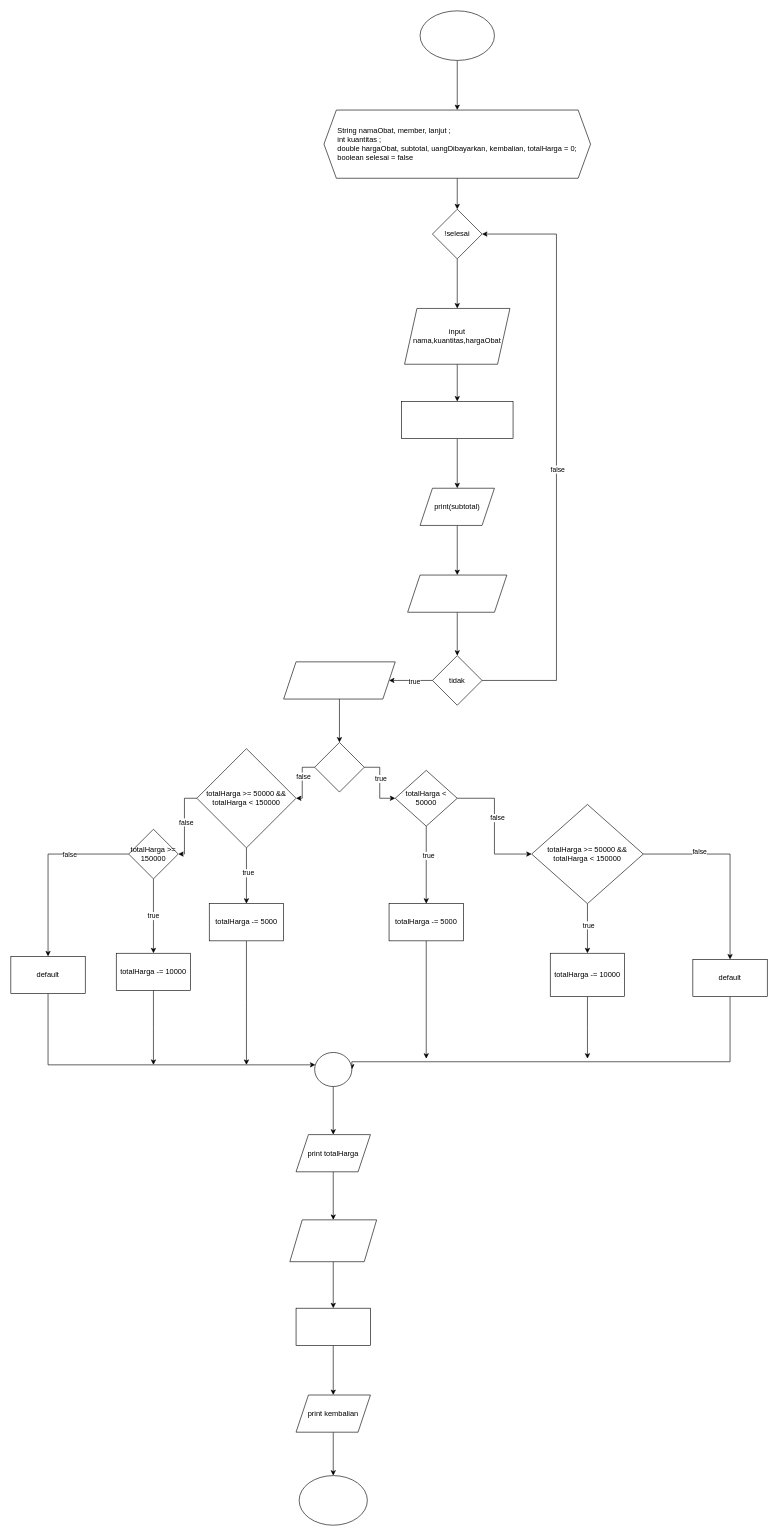
This 778x1536 diagram has some shape labels left out. The shapes that lost their labels are listed below. From the top down, each one's centre as x and y in pixels, then its label:
the point at 456,35: start
the point at 457,420: subtotal = kuantitas * hargaObat += subtotal
the point at 457,593: input(apakah ingin memasukkan data lagi?(ya/tidak)
the point at 339,680: input(apakah mempunyai member?(ya/tidak)
the point at 339,767: ya
the point at 333,1240: input (uang yang dibayarkan)
the point at 332,1326: kembalian = uangDibayarkan - totalHarga
the point at 333,1500: end
